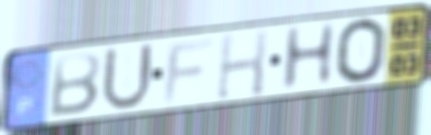B: (46, 50, 104, 119)
F: (161, 36, 217, 106)
H: (278, 19, 340, 94), (213, 27, 270, 102)
O: (333, 16, 389, 86)
U: (98, 41, 156, 114)
